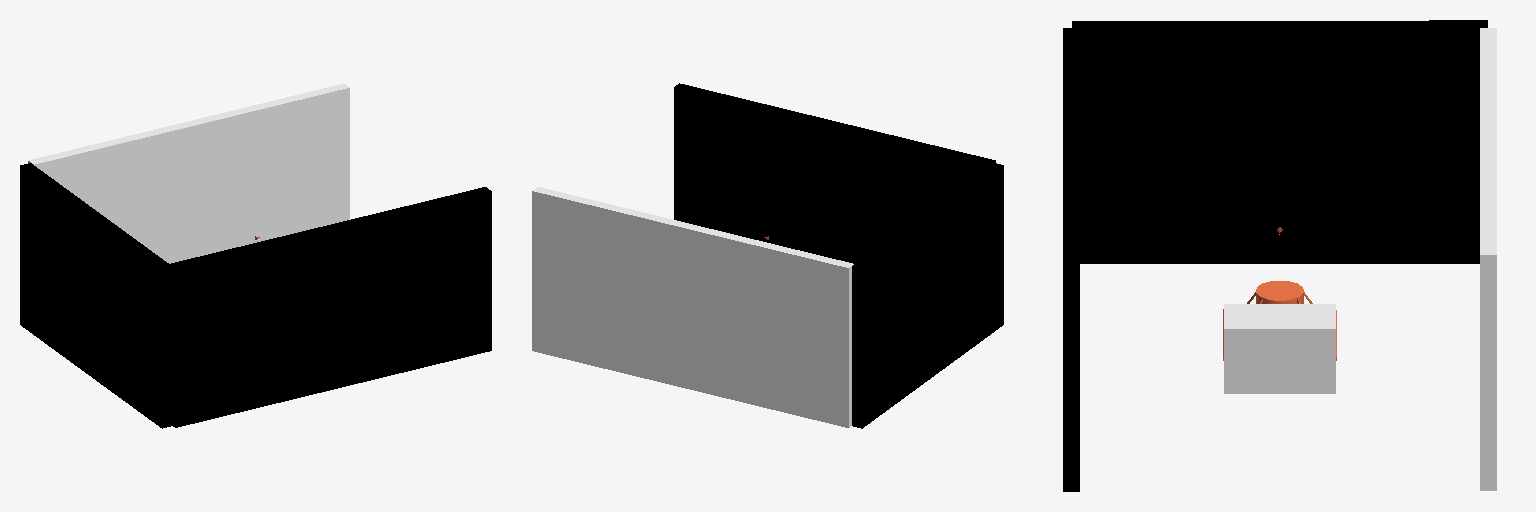
URDF robot description (abb_irb2600_model):
<?xml version="1.0" ?>
<!-- =================================================================================== -->
<!-- |    This document was autogenerated by xacro from [local-path]/ABB_ws/src/IRB2600-ABB/irb2600_description/urdf/irb2600_main.xacro | -->
<!-- |    EDITING THIS FILE BY HAND IS NOT RECOMMENDED                                 | -->
<!-- =================================================================================== -->
<robot name="abb_irb2600_model">
    <link name="world" />
    <!-- Conversion were obtained from http://www.e-paint.co.uk/Lab_values.asp
       unless otherwise stated. -->
    <!-- links -->
    <link name="base_link">
        <inertial>
            <origin rpy="0.0 0.0 0.0" xyz="0.0 0.0 0.0" />
            <mass value="92.5052" />
            <inertia ixx="1.0" ixy="1.0" ixz="1.0" iyy="1.0" iyz="1.0" izz="1.0" />
        </inertial>
        <visual>
            <origin rpy="0 0 0" xyz="0 0 0" />
            <geometry>
                <mesh filename="package://irb2600_description/meshes/visual/base_link.stl" />
            </geometry>
            <material name="">
                <color rgba="0.7372549 0.3490196 0.1607843 1" />
            </material>
        </visual>
        <collision>
            <origin rpy="0 0 0" xyz="0 0 0" />
            <geometry>
                <mesh filename="package://irb2600_description/meshes/collision/base_link.stl" />
            </geometry>
        </collision>
    </link>
    <link name="link_1">
        <inertial>
            <origin rpy="0.0 0.0 0.0" xyz="0.0 0.0 0.0" />
            <mass value="69.3794" />
            <inertia ixx="1.0" ixy="1.0" ixz="1.0" iyy="1.0" iyz="1.0" izz="1.0" />
        </inertial>
        <visual>
            <origin rpy="0 0 0" xyz="0 0 0" />
            <geometry>
                <mesh filename="package://irb2600_description/meshes/visual/link_1.stl" />
            </geometry>
            <material name="">
                <color rgba="0.7372549 0.3490196 0.1607843 1" />
            </material>
        </visual>
        <collision>
            <origin rpy="0 0 0" xyz="0 0 0" />
            <geometry>
                <mesh filename="package://irb2600_description/meshes/collision/link_1.stl" />
            </geometry>
        </collision>
    </link>
    <link name="link_2">
        <inertial>
            <origin rpy="0.0 0.0 0.0" xyz="0.0 0.0 0.0" />
            <mass value="35.0020" />
            <inertia ixx="1.0" ixy="1.0" ixz="1.0" iyy="1.0" iyz="1.0" izz="1.0" />
        </inertial>
        <visual>
            <origin rpy="0 0 0" xyz="0 0 0" />
            <geometry>
                <mesh filename="package://irb2600_description/meshes/visual/link_2.stl" />
            </geometry>
            <material name="">
                <color rgba="0.7372549 0.3490196 0.1607843 1" />
            </material>
        </visual>
        <collision>
            <origin rpy="0 0 0" xyz="0 0 0" />
            <geometry>
                <mesh filename="package://irb2600_description/meshes/collision/link_2.stl" />
            </geometry>
        </collision>
    </link>
    <link name="link_3">
        <inertial>
            <origin rpy="0.0 0.0 0.0" xyz="0.0 0.0 0.0" />
            <mass value="68.5583" />
            <inertia ixx="1.0" ixy="1.0" ixz="1.0" iyy="1.0" iyz="1.0" izz="1.0" />
        </inertial>
        <visual>
            <origin rpy="0 0 0" xyz="0 0 0" />
            <geometry>
                <mesh filename="package://irb2600_description/meshes/visual/link_3.stl" />
            </geometry>
            <material name="">
                <color rgba="0.7372549 0.3490196 0.1607843 1" />
            </material>
        </visual>
        <collision>
            <origin rpy="0 0 0" xyz="0 0 0" />
            <geometry>
                <mesh filename="package://irb2600_description/meshes/collision/link_3.stl" />
            </geometry>
        </collision>
    </link>
    <link name="link_4">
        <inertial>
            <origin rpy="0.0 0.0 0.0" xyz="0.0 0.0 0.0" />
            <mass value="18.0455" />
            <inertia ixx="1.0" ixy="1.0" ixz="1.0" iyy="1.0" iyz="1.0" izz="1.0" />
        </inertial>
        <visual>
            <origin rpy="0 0 0" xyz="0 0 0" />
            <geometry>
                <mesh filename="package://irb2600_description/meshes/visual/link_4.stl" />
            </geometry>
            <material name="">
                <color rgba="0.7372549 0.3490196 0.1607843 1" />
            </material>
        </visual>
        <collision>
            <origin rpy="0 0 0" xyz="0 0 0" />
            <geometry>
                <mesh filename="package://irb2600_description/meshes/collision/link_4.stl" />
            </geometry>
        </collision>
    </link>
    <link name="link_5">
        <inertial>
            <origin rpy="0.0 0.0 0.0" xyz="0.0 0.0 0.0" />
            <mass value="1.0738" />
            <inertia ixx="1.0" ixy="1.0" ixz="1.0" iyy="1.0" iyz="1.0" izz="1.0" />
        </inertial>
        <visual>
            <origin rpy="0 0 0" xyz="0 0 0" />
            <geometry>
                <mesh filename="package://irb2600_description/meshes/visual/link_5.stl" />
            </geometry>
            <material name="">
                <color rgba="0.7372549 0.3490196 0.1607843 1" />
            </material>
        </visual>
        <collision>
            <origin rpy="0 0 0" xyz="0 0 0" />
            <geometry>
                <mesh filename="package://irb2600_description/meshes/collision/link_5.stl" />
            </geometry>
        </collision>
    </link>
    <link name="link_6">
        <inertial>
            <origin rpy="0.0 0.0 0.0" xyz="0.0 0.0 0.0" />
            <mass value="0.1418" />
            <inertia ixx="1.0" ixy="1.0" ixz="1.0" iyy="1.0" iyz="1.0" izz="1.0" />
        </inertial>
        <visual>
            <origin rpy="0 0 0" xyz="0 0 0" />
            <geometry>
                <mesh filename="package://irb2600_description/meshes/visual/link_6.stl" />
            </geometry>
            <material name="">
                <color rgba="0.5 0.5 0.5 1" />
            </material>
        </visual>
        <collision>
            <origin rpy="0 0 0" xyz="0 0 0" />
            <geometry>
                <mesh filename="package://irb2600_description/meshes/collision/link_6.stl" />
            </geometry>
        </collision>
    </link>
    <!-- Joints -->
    <joint name="joint_1" type="revolute">
        <origin rpy="0 0 0" xyz="0 0 0.445" />
        <parent link="base_link" />
        <child link="link_1" />
        <axis xyz="0 0 1" />
        <limit effort="0" lower="-3.14159" upper="3.14159" velocity="3.054" />
    </joint>
    <joint name="joint_2" type="revolute">
        <origin rpy="0 0 0" xyz="0.15 0 0.0" />
        <parent link="link_1" />
        <child link="link_2" />
        <axis xyz="0 1 0" />
        <limit effort="0" lower="-2.705" upper="1.658" velocity="3.054" />
    </joint>
    <joint name="joint_3" type="revolute">
        <origin rpy="0 0 0" xyz="0 0 0.7" />
        <parent link="link_2" />
        <child link="link_3" />
        <axis xyz="0 1 0" />
        <limit effort="0" lower="-2.705" upper="1.309" velocity="3.054" />
    </joint>
    <joint name="joint_4" type="revolute">
        <origin rpy="0 0 0" xyz="0 0 0.115" />
        <parent link="link_3" />
        <child link="link_4" />
        <axis xyz="1 0 0" />
        <limit effort="0" lower="-6.981" upper="6.981" velocity="6.283" />
    </joint>
    <joint name="joint_5" type="revolute">
        <origin rpy="0 0 0" xyz="0.795 0 0 " />
        <parent link="link_4" />
        <child link="link_5" />
        <axis xyz="0 1 0" />
        <limit effort="0" lower="-2.094" upper="2.094" velocity="6.283" />
    </joint>
    <joint name="joint_6" type="revolute">
        <origin rpy="0 0 0" xyz="0.085 0 0" />
        <parent link="link_5" />
        <child link="link_6" />
        <axis xyz="1 0 0" />
        <limit effort="0" lower="-6.981" upper="6.981" velocity="8.727" />
    </joint>
    <!-- ROS-Industrial 'base' frame: base_link to ABB World Coordinates transform -->
    <link name="base" />
    <joint name="base_link-base" type="fixed">
        <origin rpy="0 0 0" xyz="0 0 0" />
        <parent link="base_link" />
        <child link="base" />
    </joint>
    <!-- ROS-Industrial 'flange' frame: attachment point for EEF models -->
    <link name="flange" />
    <joint name="joint_6-flange" type="fixed">
        <origin rpy="0 0 0" xyz="0 0 0" />
        <parent link="link_6" />
        <child link="flange" />
    </joint>
    <!-- ROS-Industrial 'tool0' frame: all-zeros tool frame -->
    <link name="tool0" />
    <joint name="link_6-tool0" type="fixed">
        <origin rpy="0 1.5707963267948966 0" xyz="0 0 0" />
        <parent link="flange" />
        <child link="tool0" />
    </joint>
    <!-- get base ABB IRB2600 model -->
    <!-- <xacro:abb_irb2600_12_165 prefix="${prefix}" />-->
    <!-- transmission list -->
    <transmission name="tran1">
        <type>transmission_interface/SimpleTransmission</type>
        <joint name="joint_1">
            <hardwareInterface>hardware_interface/PositionJointInterface</hardwareInterface>
        </joint>
        <actuator name="motor1">
            <hardwareInterface>hardware_interface/PositionJointInterface</hardwareInterface>
            <mechanicalReduction>1</mechanicalReduction>
        </actuator>
    </transmission>
    <transmission name="tran2">
        <type>transmission_interface/SimpleTransmission</type>
        <joint name="joint_2">
            <hardwareInterface>hardware_interface/PositionJointInterface</hardwareInterface>
        </joint>
        <actuator name="motor2">
            <hardwareInterface>hardware_interface/PositionJointInterface</hardwareInterface>
            <mechanicalReduction>1</mechanicalReduction>
        </actuator>
    </transmission>
    <transmission name="tran3">
        <type>transmission_interface/SimpleTransmission</type>
        <joint name="joint_3">
            <hardwareInterface>hardware_interface/PositionJointInterface</hardwareInterface>
        </joint>
        <actuator name="motor3">
            <hardwareInterface>hardware_interface/PositionJointInterface</hardwareInterface>
            <mechanicalReduction>1</mechanicalReduction>
        </actuator>
    </transmission>
    <transmission name="tran4">
        <type>transmission_interface/SimpleTransmission</type>
        <joint name="joint_4">
            <hardwareInterface>hardware_interface/PositionJointInterface</hardwareInterface>
        </joint>
        <actuator name="motor4">
            <hardwareInterface>hardware_interface/PositionJointInterface</hardwareInterface>
            <mechanicalReduction>1</mechanicalReduction>
        </actuator>
    </transmission>
    <transmission name="tran5">
        <type>transmission_interface/SimpleTransmission</type>
        <joint name="joint_5">
            <hardwareInterface>hardware_interface/PositionJointInterface</hardwareInterface>
        </joint>
        <actuator name="motor5">
            <hardwareInterface>hardware_interface/PositionJointInterface</hardwareInterface>
            <mechanicalReduction>1</mechanicalReduction>
        </actuator>
    </transmission>
    <transmission name="tran6">
        <type>transmission_interface/SimpleTransmission</type>
        <joint name="joint_6">
            <hardwareInterface>hardware_interface/PositionJointInterface</hardwareInterface>
        </joint>
        <actuator name="motor6">
            <hardwareInterface>hardware_interface/PositionJointInterface</hardwareInterface>
            <mechanicalReduction>1</mechanicalReduction>
        </actuator>
    </transmission>
    <!-- end of transmission list -->
    <!-- Gazebo-specific link properties -->
    <gazebo reference="base_link">
        <material>Gazebo/White</material>
        <turnGravityOff>true</turnGravityOff>
        <plugin name="gazebo_ros_control">
            <robotNamespace>/</robotNamespace>
        </plugin>
    </gazebo>
    <gazebo reference="link_1">
        <material>Gazebo/White</material>
        <turnGravityOff>true</turnGravityOff>
    </gazebo>
    <gazebo reference="link_2">
        <material>Gazebo/White</material>
        <turnGravityOff>true</turnGravityOff>
    </gazebo>
    <gazebo reference="link_3">
        <material>Gazebo/White</material>
        <turnGravityOff>true</turnGravityOff>
    </gazebo>
    <gazebo reference="link_4">
        <material>Gazebo/White</material>
        <turnGravityOff>true</turnGravityOff>
    </gazebo>
    <gazebo reference="link_5">
        <material>Gazebo/White</material>
        <turnGravityOff>true</turnGravityOff>
    </gazebo>
    <gazebo reference="link_6">
        <material>Gazebo/Black</material>
        <turnGravityOff>true</turnGravityOff>
    </gazebo>
    <!-- ros_control plugin -->
    <gazebo>
        <plugin filename="libgazebo_ros_control.so" name="gazebo_ros_control">
            <!-- <robotNamespace>/</robotNamespace>-->
            <!--<robotSimType>gazebo_ros_control/DefaultRobotHWSim</robotSimType>-->
        </plugin>
    </gazebo>
    <material name="coral">
        <color rgba="1.0 0.4980392156862745 0.3137254901960784 1.0" />
    </material>
    <!-- HERE you can change the position of the robot in the table -->
    <link name="base_mesh">
        <visual>
            <origin rpy="1.5708 0 0" xyz="0.0 0 0" />
            <geometry>
                <mesh filename="package://irb2600_description/meshes/supports/robot_base_iam.stl" scale="0.01005 0.01005 0.01005" />
            </geometry>
            <material name="coral" />
        </visual>
        <collision>
            <origin rpy="1.5708 0 0" xyz="0.0 0 0" />
            <geometry>
                <mesh filename="package://irb2600_description/meshes/supports/robot_base_iam.stl" scale="0.01005 0.01005 0.01005" />
            </geometry>
            <material name="coral" />
        </collision>
        <inertial>
            <origin rpy="0 0 0" xyz="0.0 0.0 0.0" />
            <mass value="120" />
            <inertia ixx="1.0e-06" ixy="0.0" ixz="0.0" iyy="1.0e-06" iyz="0.0" izz="1.0e-06" />
        </inertial>
    </link>
    <joint name="base_mesh_joint" type="fixed">
        <parent link="world" />
        <child link="base_mesh" />
        <origin rpy="0 0 0" xyz="0 0 0.209" />
    </joint>
    <joint name="base_robot_joint" type="fixed">
        <parent link="base_mesh" />
        <child link="base_link" />
        <origin rpy="0 0 0" xyz="0 0 0.378" />
    </joint>
    <material name="coral4">
        <color rgba="0.0 0.0 0.0 0.5" />
    </material>
    <material name="transparent">
        <color rgba="1.0 1.0 1.0 0.1" />
    </material>
    <!-- HERE you can change the position of the robot in the table -->
    <link name="wall_back">
        <visual>
            <origin rpy="0 0 0" xyz="0 -2.1 1.5" />
            <geometry>
                <box size="4.8 0.2 3.0" />
            </geometry>
            <material name="coral4" />
        </visual>
        <collision>
            <origin rpy="0 0 0" xyz="0 -2.1 1.5" />
            <geometry>
                <box size="4.8 0.2 3.0" />
            </geometry>
            <material name="coral4" />
        </collision>
        <inertial>
            <origin rpy="0 0 0" xyz="0.0 0.0 0.0" />
            <mass value="0.001" />
            <inertia ixx="1.0e-06" ixy="0.0" ixz="0.0" iyy="1.0e-06" iyz="0.0" izz="1.0e-06" />
        </inertial>
    </link>
    <link name="wall_right">
        <visual>
            <origin rpy="0 0 1.57" xyz="2.4 1.11 1.5" />
            <geometry>
                <box size="6.2 0.2 3.0" />
            </geometry>
            <material name="coral4" />
        </visual>
        <collision>
            <origin rpy="0 0 1.57" xyz="2.4 1.11 1.5" />
            <geometry>
                <box size="6.2 0.2 3.0" />
            </geometry>
            <material name="coral4" />
        </collision>
        <inertial>
            <origin rpy="0 0 0" xyz="0.0 0.0 0.0" />
            <mass value="0.001" />
            <inertia ixx="1.0e-06" ixy="0.0" ixz="0.0" iyy="1.0e-06" iyz="0.0" izz="1.0e-06" />
        </inertial>
    </link>
    <link name="wall_left">
        <visual>
            <origin rpy="0 0 1.57" xyz="-2.4 1.11 1.5" />
            <geometry>
                <box size="6.2 0.2 3.0" />
            </geometry>
            <material name="transparent" />
        </visual>
        <collision>
            <origin rpy="0 0 1.57" xyz="-2.4 1.11 1.5" />
            <geometry>
                <box size="6.2 0.2 3.0" />
            </geometry>
            <material name="transparent" />
        </collision>
        <inertial>
            <origin rpy="0 0 0" xyz="0.0 0.0 0.0" />
            <mass value="0.001" />
            <inertia ixx="1.0e-06" ixy="0.0" ixz="0.0" iyy="1.0e-06" iyz="0.0" izz="1.0e-06" />
        </inertial>
    </link>
    <joint name="wallback_j" type="fixed">
        <parent link="world" />
        <child link="wall_back" />
        <origin rpy="0 0 -1.57" xyz="0 0 0" />
    </joint>
    <joint name="wallback_j2" type="fixed">
        <parent link="world" />
        <child link="wall_right" />
        <origin rpy="0 0 -1.57" xyz="0 0 0" />
    </joint>
    <joint name="wallback_j3" type="fixed">
        <parent link="world" />
        <child link="wall_left" />
        <origin rpy="0 0 -1.57" xyz="0 0 0" />
    </joint>
    <gazebo reference="wall_left">
        <material>Gazebo/GreyTransparent</material>
    </gazebo>
    <material name="coral3">
        <color rgba="1.0 1.0 1.0 1.0" />
    </material>
    <!-- HERE you can change the position of the robot in the table -->
    <link name="table">
        <visual>
            <origin rpy="0 0 0" xyz="0 1.20 0" />
            <geometry>
                <box size="1.3 0.7 0.82" />
            </geometry>
            <material name="coral3" />
        </visual>
        <collision>
            <origin rpy="0 0 0" xyz="0 2.0 0.405" />
            <geometry>
                <box size="1.5 0.7 0.81" />
            </geometry>
            <material name="coral3" />
        </collision>
        <inertial>
            <origin rpy="0 0 0" xyz="0.0 0.0 0.0" />
            <mass value="0.001" />
            <inertia ixx="1.0e-06" ixy="0.0" ixz="0.0" iyy="1.0e-06" iyz="0.0" izz="1.0e-06" />
        </inertial>
    </link>
    <joint name="table_j" type="fixed">
        <parent link="world" />
        <child link="table" />
        <origin rpy="0 0 -1.57" xyz="0 0 0.41" />
    </joint>
    <gazebo reference="table">
        <material>Gazebo/Wood</material>
    </gazebo>
    <!-- Conversion were obtained from http://www.e-paint.co.uk/Lab_values.asp
       unless otherwise stated. -->
    <link name="ee">
        <inertial>
            <origin rpy="0 0 0" xyz="8.65924565893986E-05 0.0195599698345866 1.93283795397848E-10" />
            <mass value="0.0453532792285496" />
            <inertia ixx="0.000055032" ixy="0.000000016" ixz="0" iyy="0.000014893" iyz="0" izz="0.000054929" />
        </inertial>
        <visual>
            <origin rpy="0 0 0" xyz="0 0 0" />
            <geometry>
                <mesh filename="package://irb2600_description/meshes/supports/ee_marker.STL" />
            </geometry>
            <material name="">
                <color rgba="0.7372549 0.3490196 0.1607843 1" />
            </material>
        </visual>
        <collision>
            <origin rpy="0 0 0" xyz="0 0 0" />
            <geometry>
                <mesh filename="package://irb2600_description/meshes/supports/ee_marker.STL" />
            </geometry>
        </collision>
    </link>
    <joint name="irb2600_ee_joint" type="fixed">
        <parent link="tool0" />
        <child link="ee" />
        <origin rpy="1.57 0 0" xyz="0 0 0" />
    </joint>
    <!-- end effect point -->
    <link name="end_effect_point">
        <visual>
            <origin rpy="0 0 0" xyz="0 0 0.14" />
            <geometry>
                <box size="0.01 0.01 0.01" />
            </geometry>
        </visual>
        <collision>
            <origin rpy="0 0 0" xyz="0 0 0.14" />
            <geometry>
                <box size="0.002 0.002 0.002" />
            </geometry>
        </collision>
        <inertial>
            <mass value="0.1" />
            <origin xyz="0 0 0" rpy="0 0 0" />
            <inertia ixx="0.03" iyy="0.03" izz="0.03" ixy="0.0" ixz="0.0" iyz="0.0" />
        </inertial>
    </link>
    <!-- end effect point -->
    <joint name="end_effect_point" type="fixed">
        <origin rpy="0 0 0" xyz="0 0 0" />
        <parent link="tool0" />
        <child link="end_effect_point" />
    </joint>
</robot>

--- Render facts (derived) ---
3 views of the same robot in one strip: view 1: azimuth 30°, elevation 25°; view 2: azimuth 150°, elevation 25°; view 3: azimuth 270°, elevation 25° (orthographic).
Robot: abb_irb2600_model — 18 links, 17 joints (6 revolute, 11 fixed); root link world; default pose: every joint at zero.
Links seen in each view (by area): view 1: wall_right, wall_left, wall_back; view 2: wall_left, wall_right, wall_back; view 3: wall_back, table, wall_right, wall_left, base_mesh.
Boxes of the visible links, <box> form: wall_right: <box>170,187,491,427</box>; wall_left: <box>28,84,349,263</box>; wall_back: <box>20,163,171,428</box>; wall_left: <box>532,187,853,427</box>; wall_right: <box>674,83,995,263</box>; wall_back: <box>852,163,1003,428</box>; wall_back: <box>1072,20,1487,263</box>; table: <box>1224,304,1335,393</box>; wall_right: <box>1063,28,1079,491</box>; wall_left: <box>1480,28,1496,490</box>; base_mesh: <box>1223,281,1336,360</box>.
Bounding box of the posed robot: 6.41 × 5 × 3 m (x, y, z).
Meshes: 9 distinct files referenced, 2 mesh visuals loaded (2 binary STL); not drawn: 7 (reference not matched to a file when rendering).
